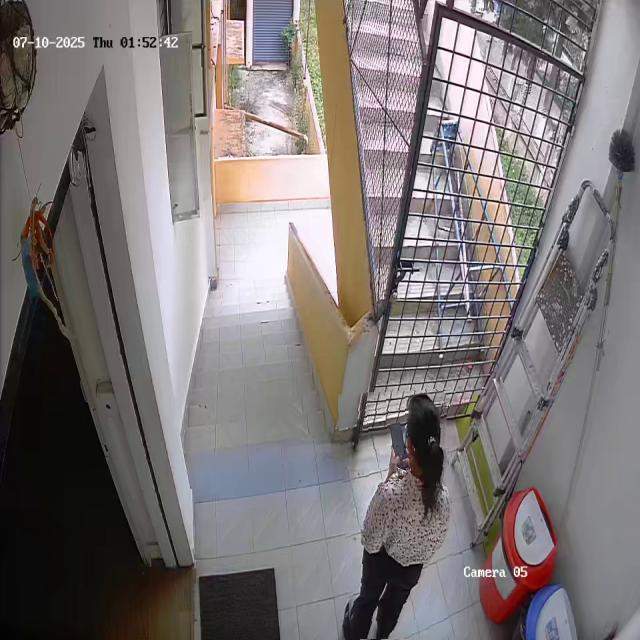person: (340, 389, 455, 640)
